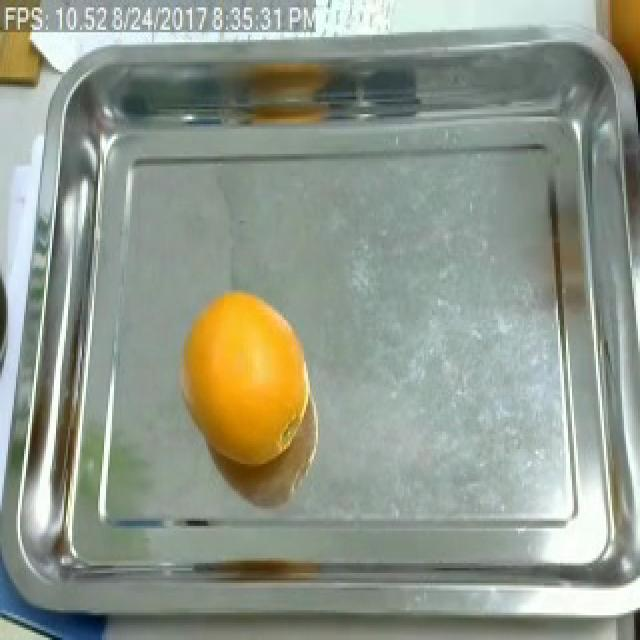Fruit: (172, 285, 316, 484), (594, 0, 640, 104), (0, 5, 50, 97)
